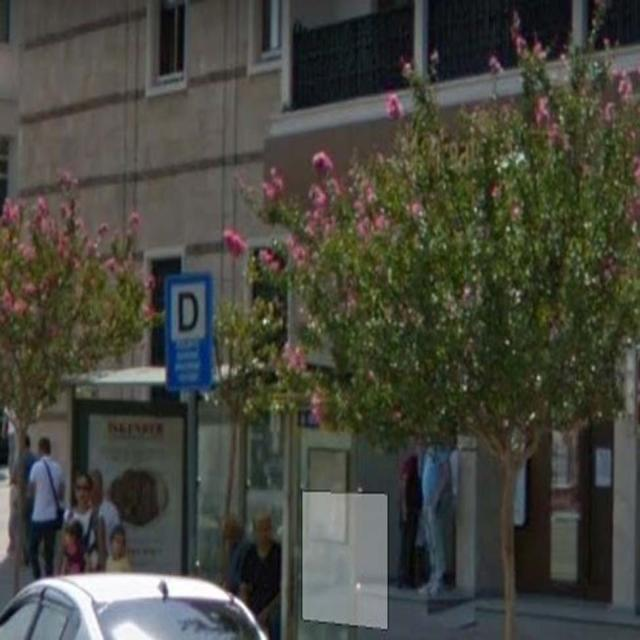durak: (164, 273, 213, 343)
